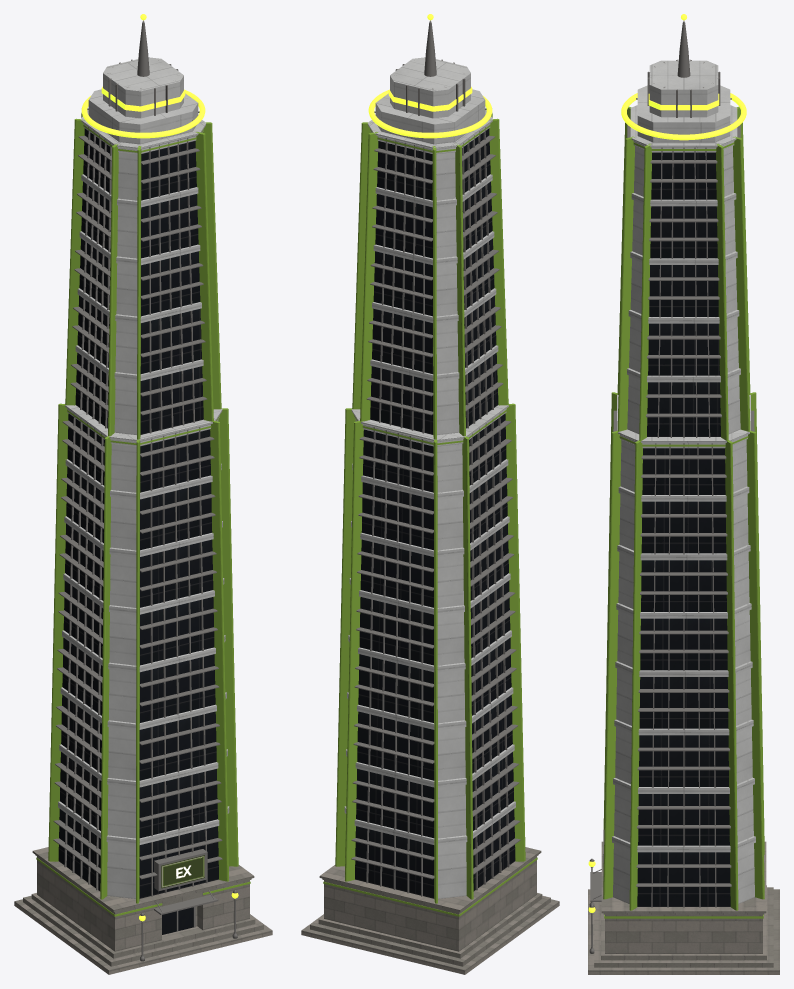
File: empathic-x.glb
3 renders of one model, left to right at view 1: azimuth 30°, elevation 25°; view 2: azimuth 150°, elevation 25°; view 3: azimuth 270°, elevation 25°, orthographic.
Visible parts, largest first — view 1: Landmark · Empathic.X; view 2: Landmark · Empathic.X; view 3: Landmark · Empathic.X.
Boxes of the visible parts, <box> form: Landmark · Empathic.X: <box>14,14,272,974</box>; Landmark · Empathic.X: <box>301,14,559,974</box>; Landmark · Empathic.X: <box>588,14,779,974</box>.
Bounding box in the file's own units: 12 × 63.5 × 12.
7 materials, 4 textured.
